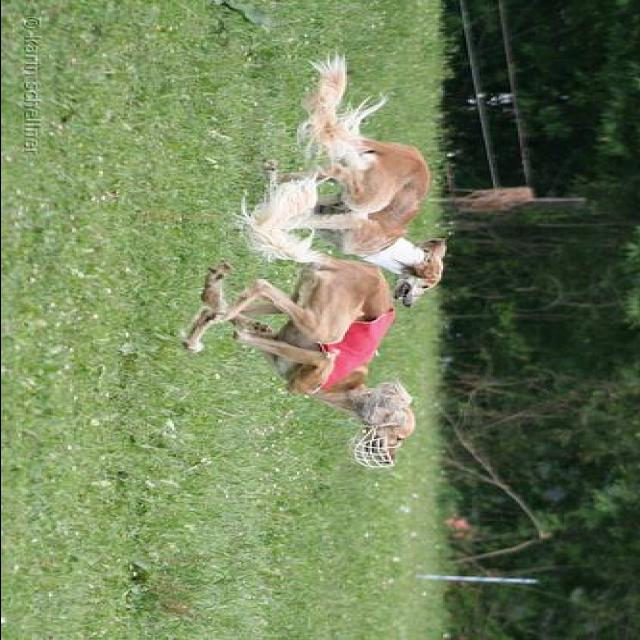saluki: (181, 174, 419, 470), (262, 50, 452, 308)
